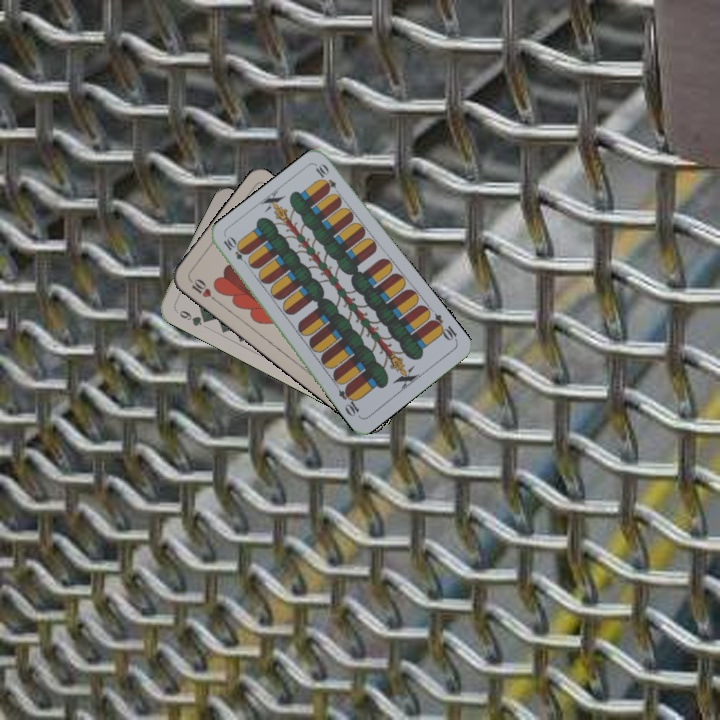E10: (219, 233, 252, 269), (426, 310, 460, 344)
G9: (171, 305, 211, 329)
H10: (185, 274, 220, 305)
